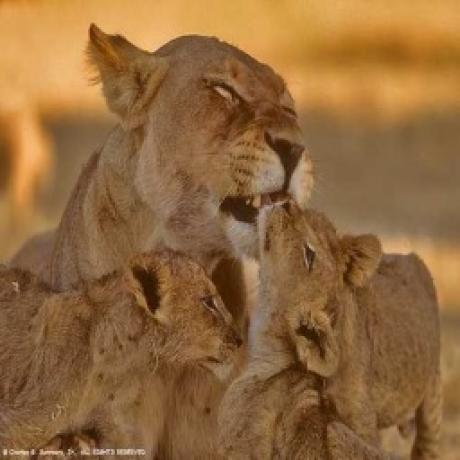Lion: (0, 19, 316, 280), (0, 248, 247, 460), (256, 197, 443, 460)
